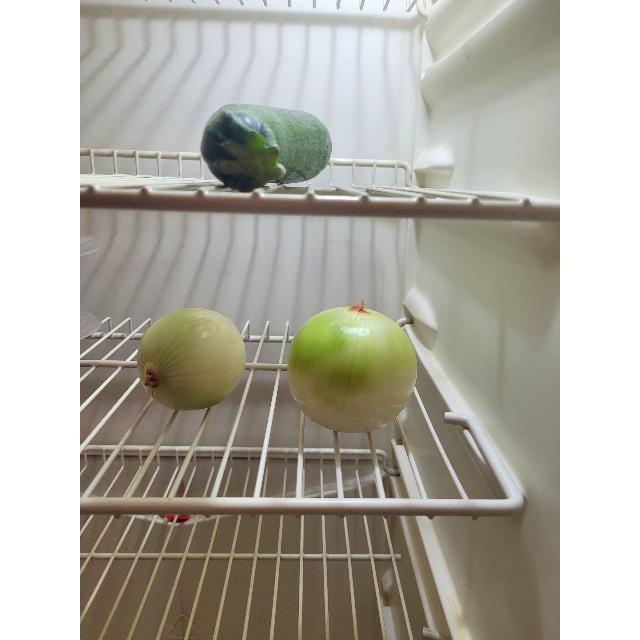onion: (288, 306, 416, 432), (139, 308, 247, 410)
zucchini: (202, 103, 332, 191)
